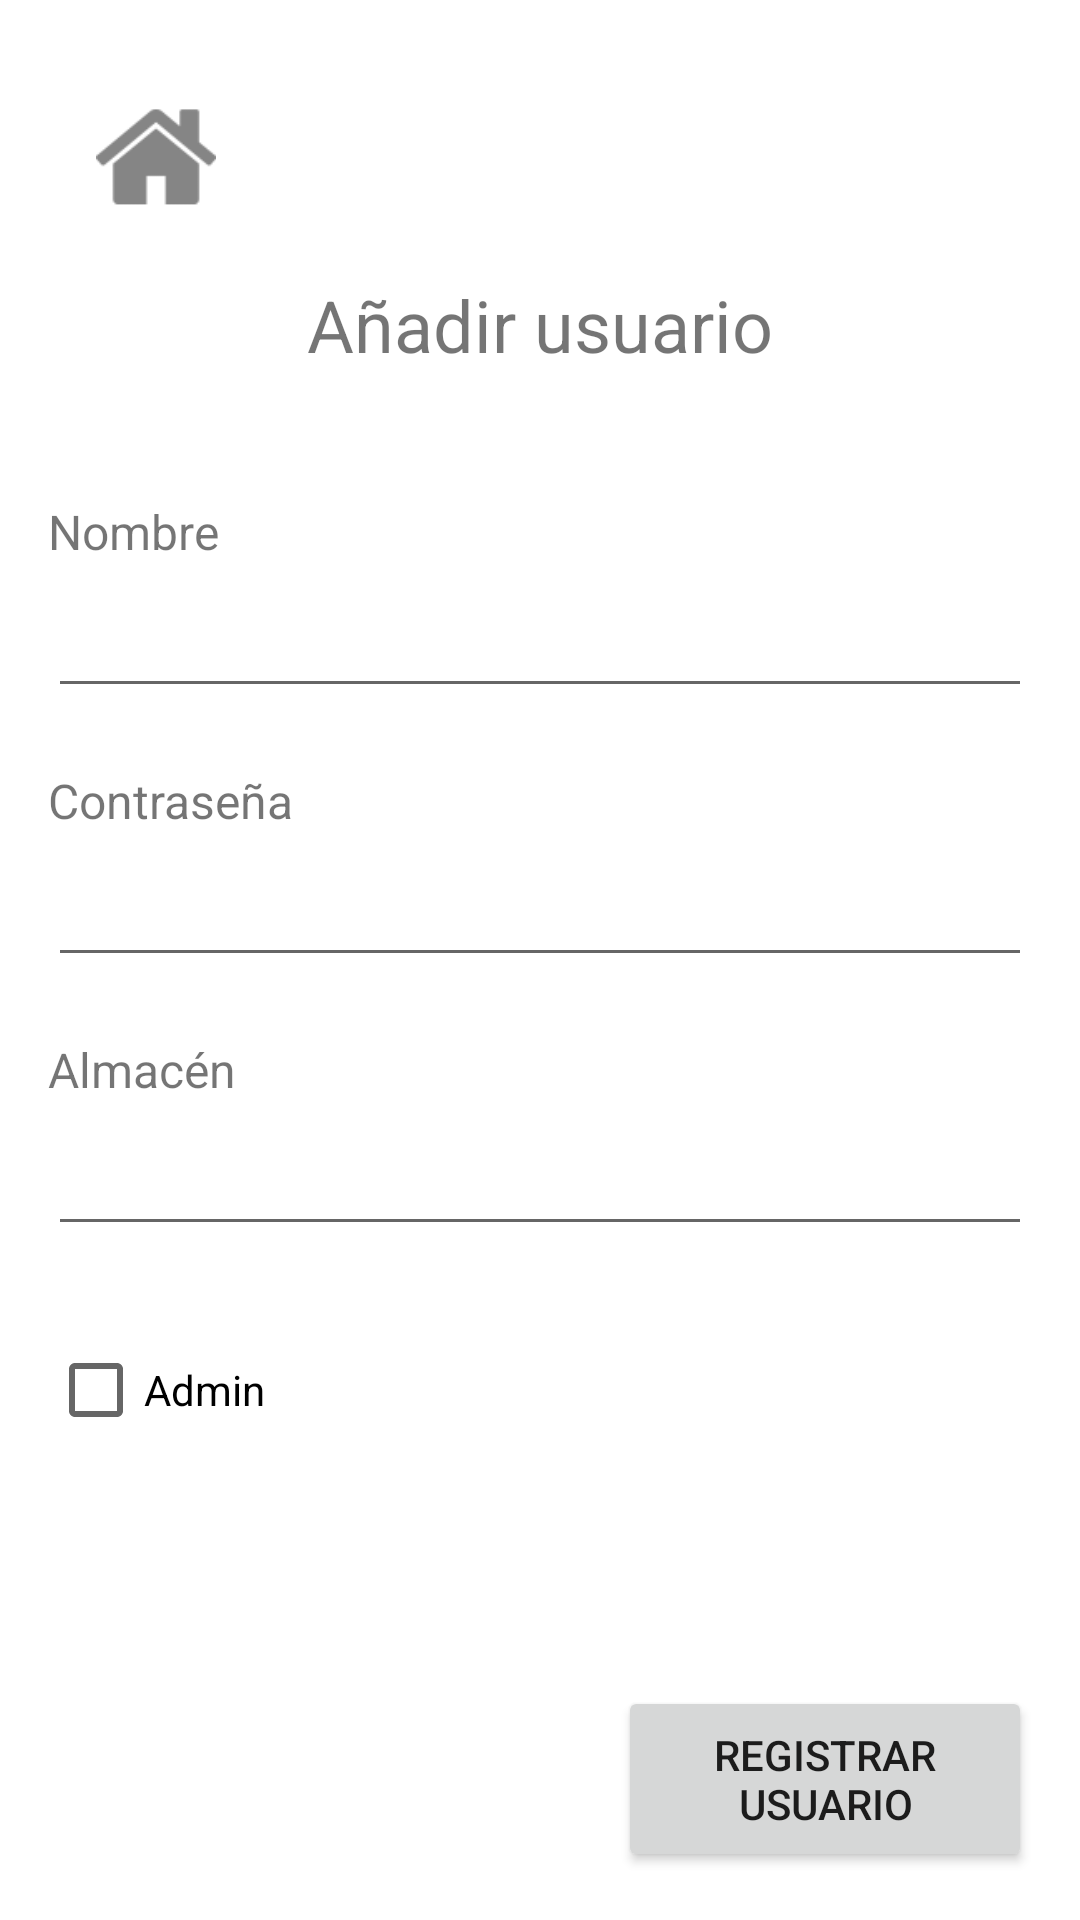

Screen size 1080w x 1920h. Icon name, then its center in pixels as point (x, y):
home: point (156, 157)
